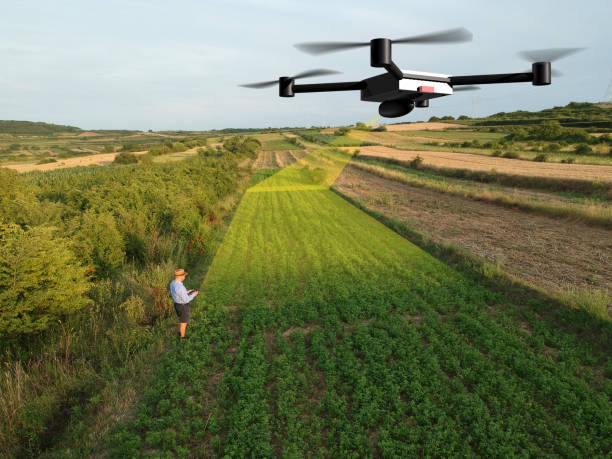Drone: (235, 25, 586, 120)
